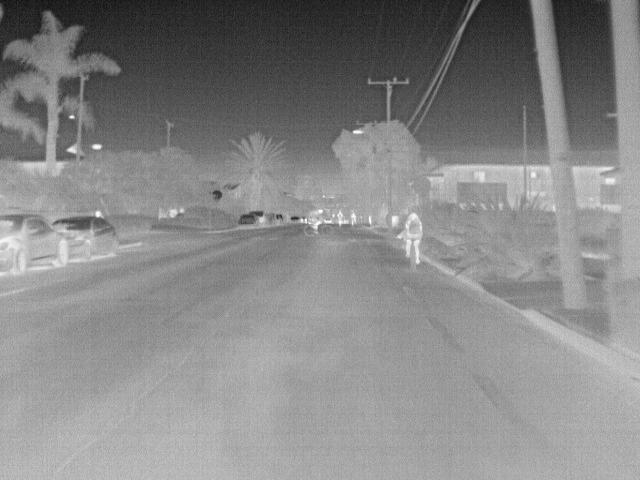car: (1, 213, 73, 276), (56, 220, 120, 262), (248, 210, 267, 228), (236, 213, 258, 228), (265, 212, 279, 228), (274, 213, 286, 226), (288, 215, 303, 225)
person: (395, 213, 424, 265), (308, 208, 324, 234), (349, 211, 358, 229), (336, 208, 343, 229)
